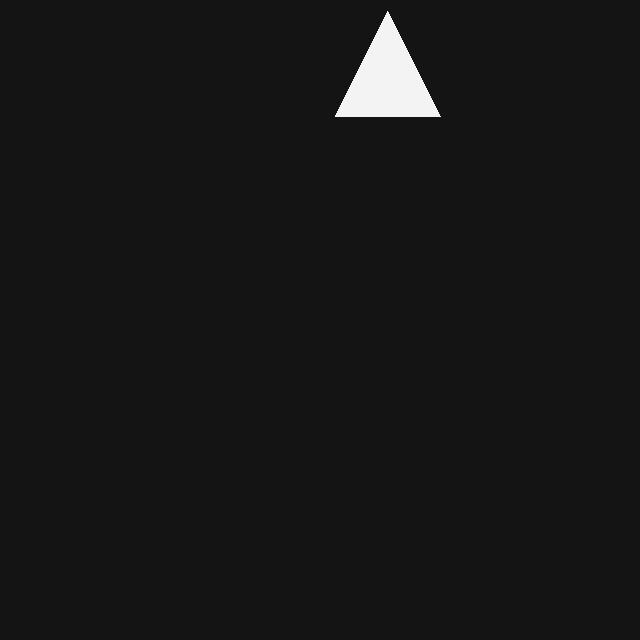triangle: (335, 11, 440, 116)
